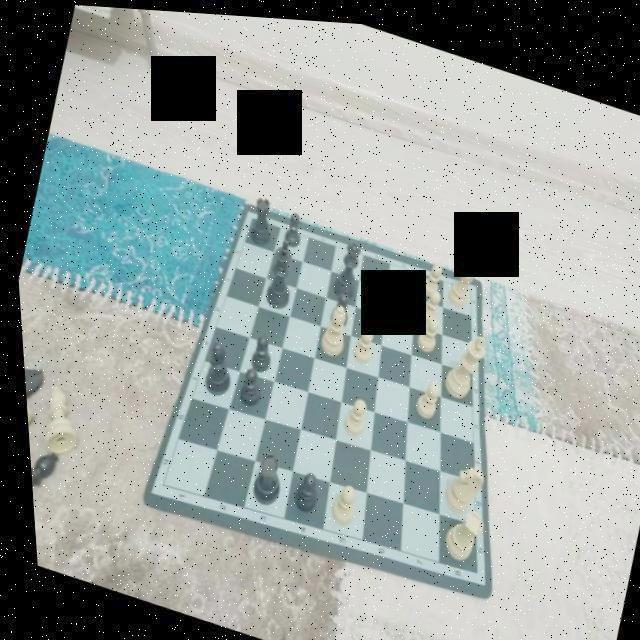chess-table-corners: (144, 470, 168, 496), (456, 553, 480, 578), (240, 205, 258, 225), (456, 274, 475, 292)
